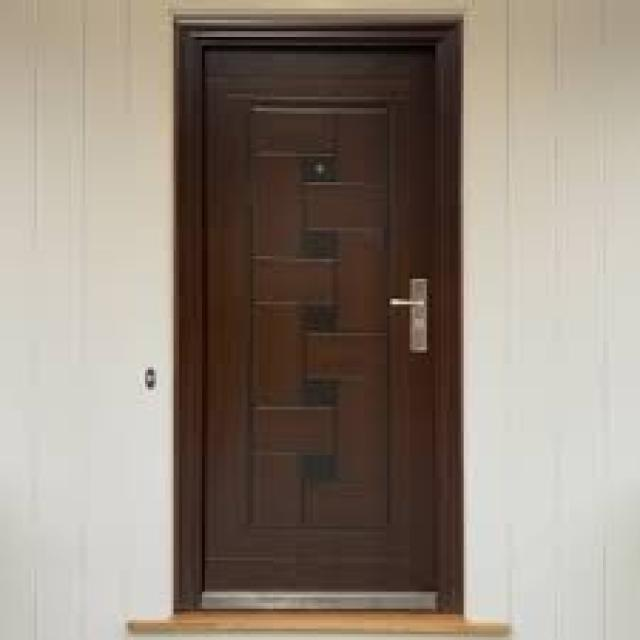door: (193, 35, 452, 608)
